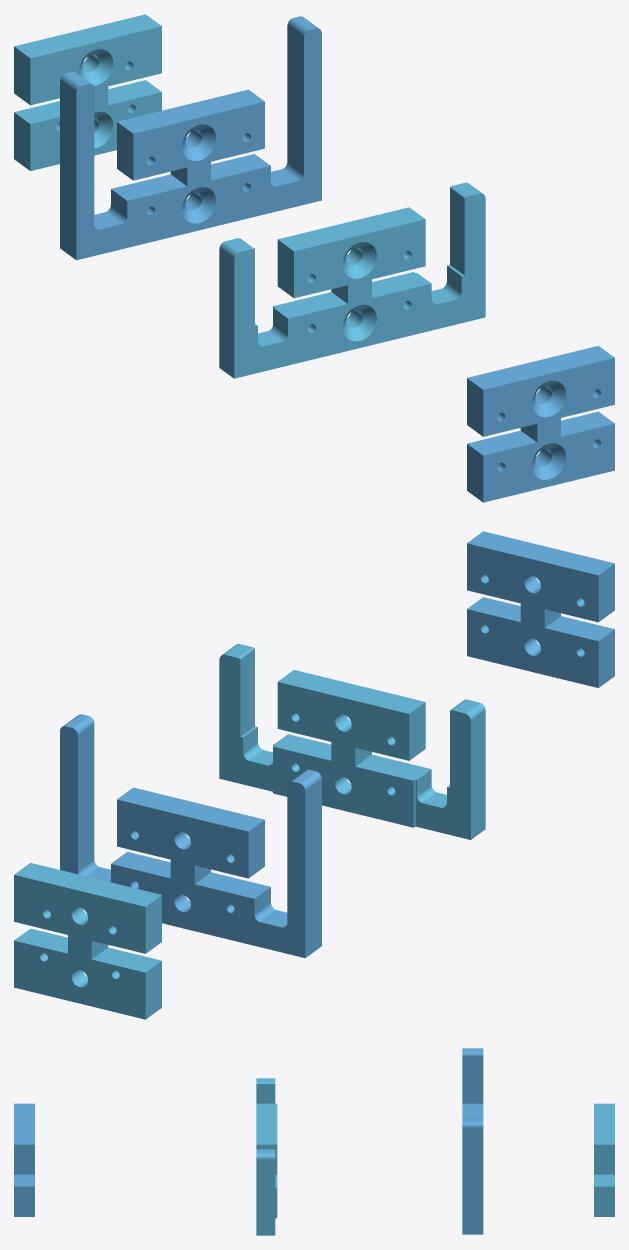
File: HR-V0_mass-reduced-moving-adapters-candidate.glb
3 renders of one model, top to bottom at view 1: azimuth 30°, elevation 25°; view 2: azimuth 150°, elevation 25°; view 3: azimuth 270°, elevation 25°, orthographic. The views are drawn at different scales.
Visible parts, largest first — view 1: MV0-C06R, MV0-C04R, MV0-C01R, MV0-C07R; view 2: MV0-C06R, MV0-C04R, MV0-C01R, MV0-C07R; view 3: MV0-C06R, MV0-C04R, MV0-C01R, MV0-C07R.
Boxes of the visible parts, x1=… form: MV0-C06R: x1=60, y1=16, x2=321, y2=260; MV0-C04R: x1=219, y1=182, x2=485, y2=378; MV0-C01R: x1=467, y1=346, x2=614, y2=502; MV0-C07R: x1=14, y1=14, x2=161, y2=170; MV0-C06R: x1=60, y1=714, x2=321, y2=958; MV0-C04R: x1=219, y1=644, x2=485, y2=839; MV0-C01R: x1=467, y1=531, x2=614, y2=687; MV0-C07R: x1=14, y1=863, x2=161, y2=1019; MV0-C06R: x1=462, y1=1048, x2=483, y2=1234; MV0-C04R: x1=256, y1=1078, x2=277, y2=1235; MV0-C01R: x1=14, y1=1103, x2=34, y2=1216; MV0-C07R: x1=594, y1=1103, x2=614, y2=1216.
Size of the model in its own units: 84 by 55.38 by 272.
